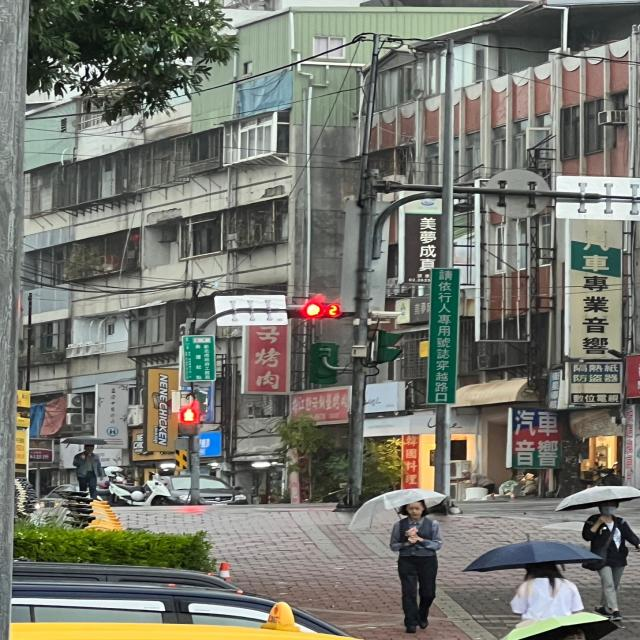red light: (303, 302, 345, 321), (177, 408, 196, 438)
